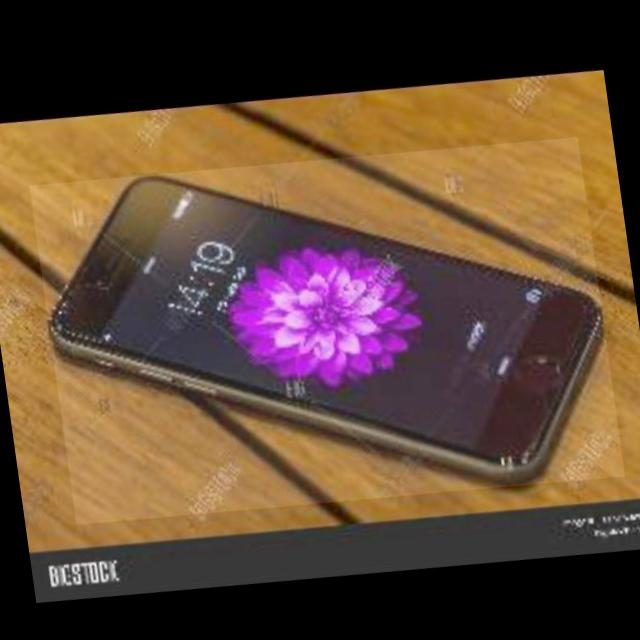Smartphone: (37, 169, 615, 494)
